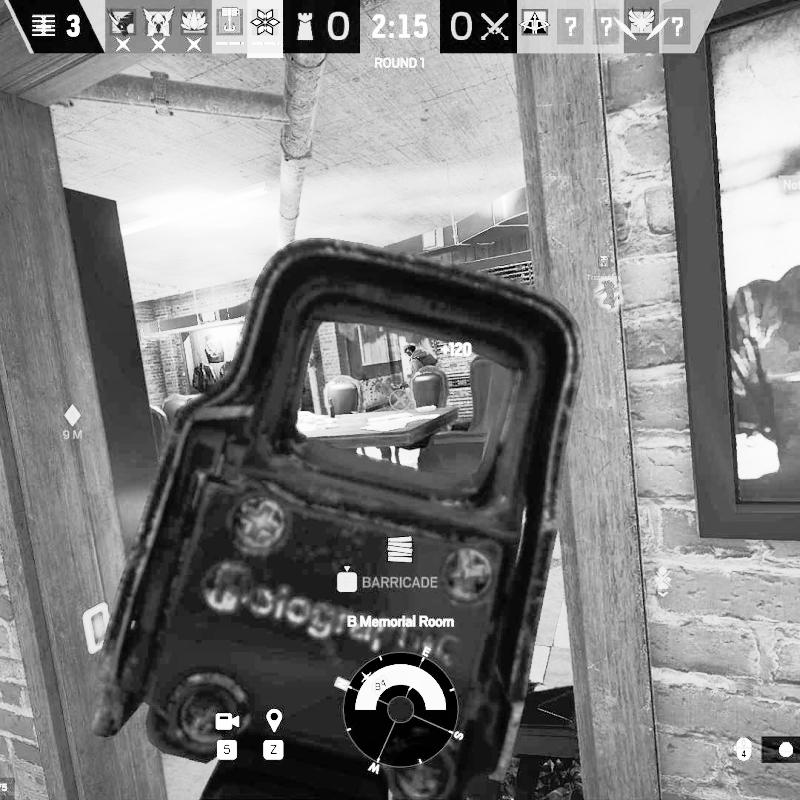Character: (402, 343, 438, 378)
Friend_label: (587, 254, 622, 282)
Head: (403, 344, 417, 357)
